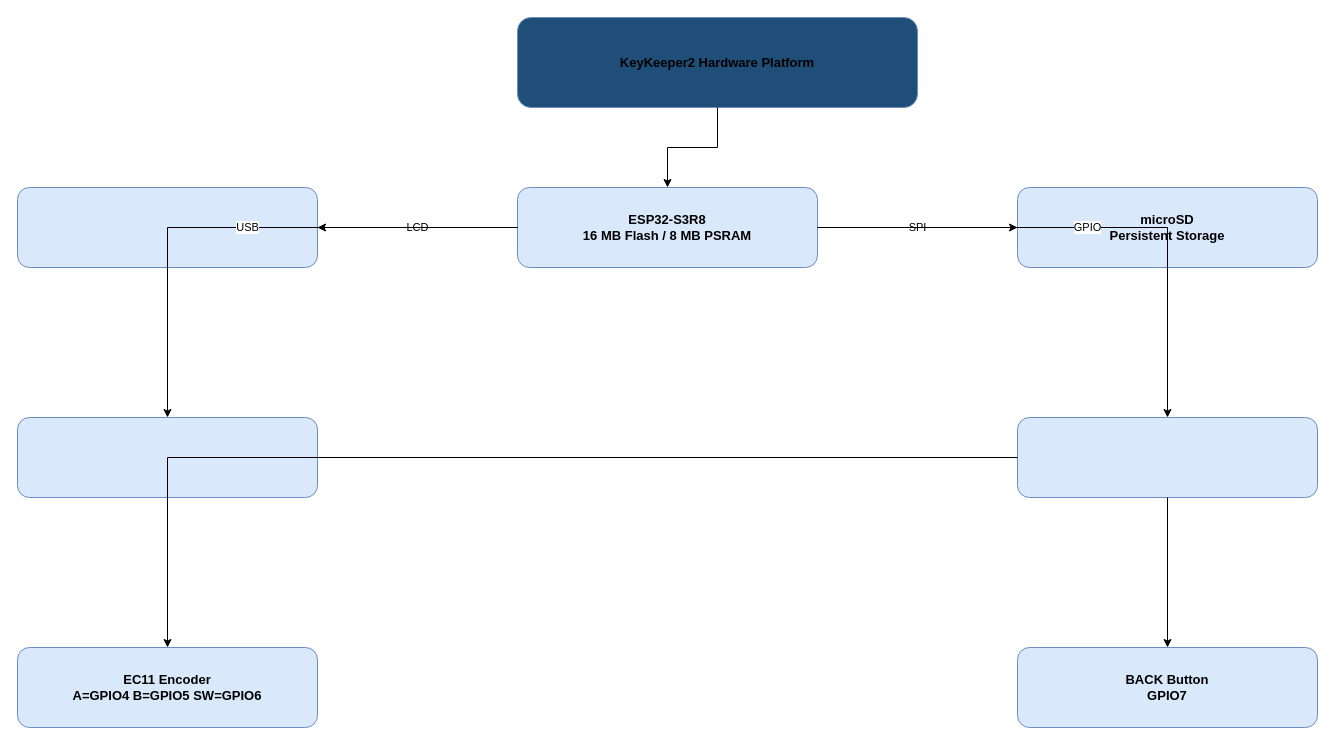
Image size: 1335x745. Some labels were removed from this diagram. The box of each missing label's shape, as (x1, y1, x2, y2) in pixels:
18PIN Header GPIO / 3V3 / GND: (1016, 416, 1318, 498)
LCD ST7789V2 172 × 320: (16, 186, 318, 268)
USB Type-C Power / USB: (16, 416, 318, 498)
